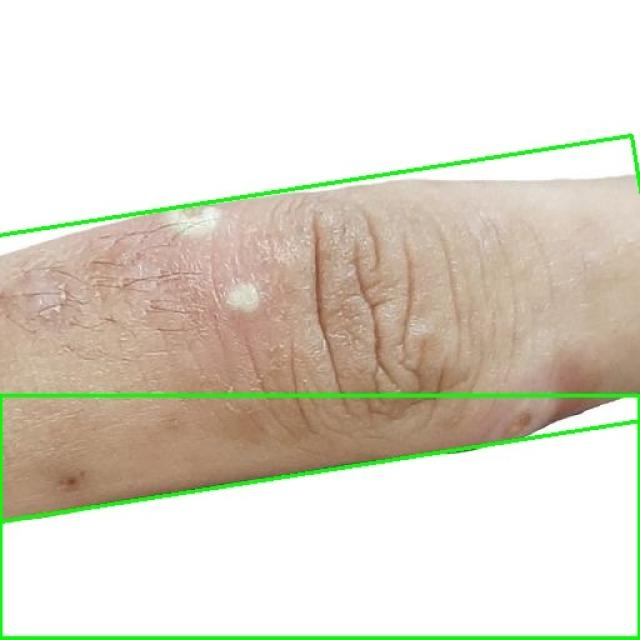Scabies: (0, 136, 640, 523), (0, 396, 639, 639)
